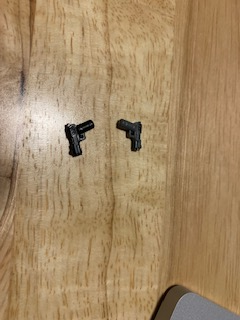pistol: (62, 119, 98, 159), (114, 118, 144, 155)
